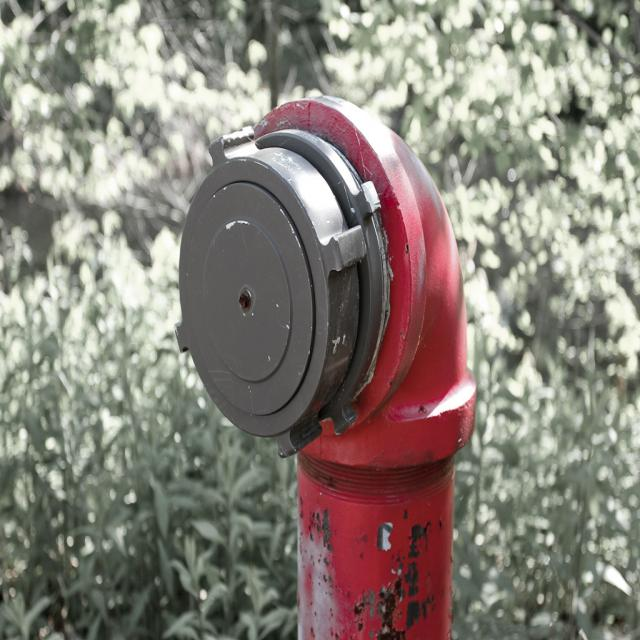fire_hydrant: (175, 89, 478, 639)
